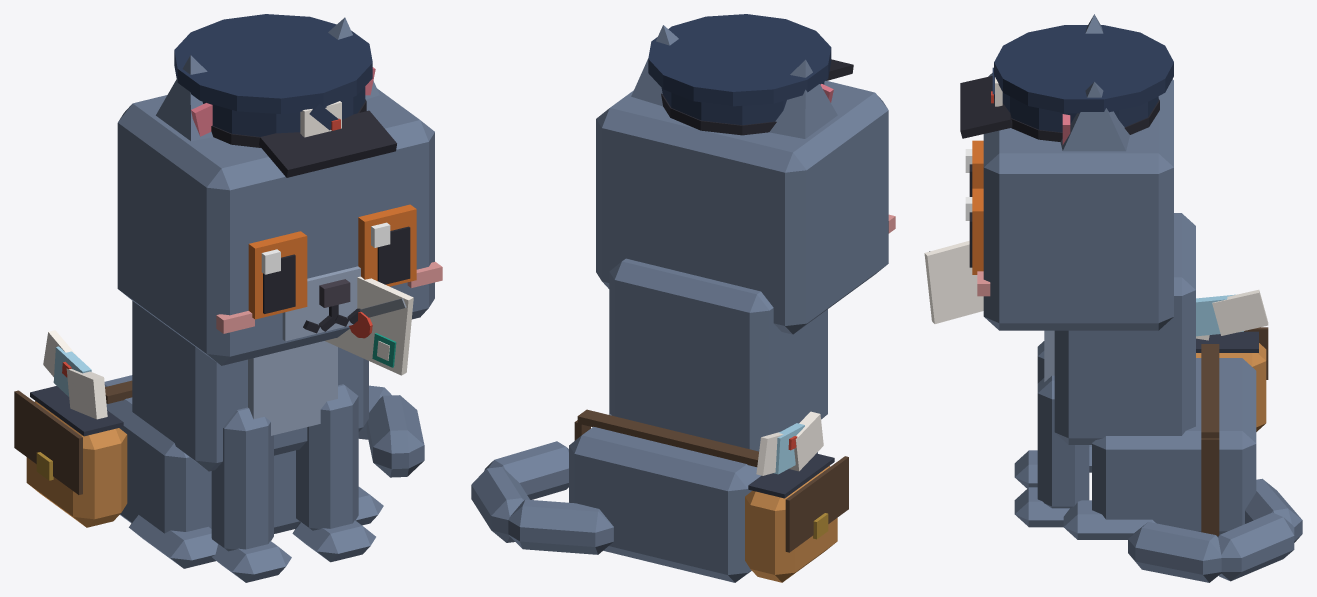
File: CatCafe_Cat_Postie_Sit.fbx
3 views of the same model, side by side, from view 1: azimuth 30°, elevation 25°; view 2: azimuth 150°, elevation 25°; view 3: azimuth 270°, elevation 25° (orthographic). The views are drawn at different scales.
Parts seen in each view (by area): view 1: CatCafe_Cat_Postie_Sit_Head, CatCafe_Cat_Postie_Sit_Body, CatCafe_Cat_Postie_Sit_Prop, CatCafe_Cat_Postie_Sit_LegF2, CatCafe_Cat_Postie_Sit_LegF1, CatCafe_Cat_Postie_Sit_Prop2, CatCafe_Cat_Postie_Sit_Eye2, CatCafe_Cat_Postie_Sit_Eye1, CatCafe_Cat_Postie_Sit_Tail, CatCafe_Cat_Postie_Sit_EarR, CatCafe_Cat_Postie_Sit_EarL; view 2: CatCafe_Cat_Postie_Sit_Body, CatCafe_Cat_Postie_Sit_Head, CatCafe_Cat_Postie_Sit_Prop, CatCafe_Cat_Postie_Sit_Tail, CatCafe_Cat_Postie_Sit_EarR, CatCafe_Cat_Postie_Sit_EarL; view 3: CatCafe_Cat_Postie_Sit_Body, CatCafe_Cat_Postie_Sit_Head, CatCafe_Cat_Postie_Sit_Prop, CatCafe_Cat_Postie_Sit_Tail, CatCafe_Cat_Postie_Sit_LegF1, CatCafe_Cat_Postie_Sit_Prop2, CatCafe_Cat_Postie_Sit_EarL, CatCafe_Cat_Postie_Sit_Eye1, CatCafe_Cat_Postie_Sit_LegF2, CatCafe_Cat_Postie_Sit_Eye2.
Boxes of the visible parts, x1,y1,x2,y2 form: CatCafe_Cat_Postie_Sit_Head: (117,88,442,365); CatCafe_Cat_Postie_Sit_Body: (14,301,383,568); CatCafe_Cat_Postie_Sit_Prop: (174,14,396,177); CatCafe_Cat_Postie_Sit_LegF2: (211,407,291,582); CatCafe_Cat_Postie_Sit_LegF1: (292,384,375,562); CatCafe_Cat_Postie_Sit_Prop2: (325,276,413,375); CatCafe_Cat_Postie_Sit_Eye2: (248,231,307,319); CatCafe_Cat_Postie_Sit_Eye1: (358,204,416,286); CatCafe_Cat_Postie_Sit_Tail: (358,385,424,477); CatCafe_Cat_Postie_Sit_EarR: (156,55,212,141); CatCafe_Cat_Postie_Sit_EarL: (328,17,379,99); CatCafe_Cat_Postie_Sit_Body: (569,258,848,582); CatCafe_Cat_Postie_Sit_Head: (596,80,895,334); CatCafe_Cat_Postie_Sit_Prop: (648,14,853,135); CatCafe_Cat_Postie_Sit_Tail: (471,441,613,554); CatCafe_Cat_Postie_Sit_EarR: (769,59,837,138); CatCafe_Cat_Postie_Sit_EarL: (631,25,678,106); CatCafe_Cat_Postie_Sit_Body: (1044,213,1268,539); CatCafe_Cat_Postie_Sit_Head: (977,73,1173,330); CatCafe_Cat_Postie_Sit_Prop: (960,25,1173,141); CatCafe_Cat_Postie_Sit_Tail: (1128,478,1302,582); CatCafe_Cat_Postie_Sit_LegF1: (1014,375,1089,527); CatCafe_Cat_Postie_Sit_Prop2: (924,240,983,323); CatCafe_Cat_Postie_Sit_EarL: (1060,82,1129,151); CatCafe_Cat_Postie_Sit_Eye1: (965,188,983,274); CatCafe_Cat_Postie_Sit_LegF2: (1014,341,1044,488); CatCafe_Cat_Postie_Sit_Eye2: (965,140,983,196).
Size of the model in its own units: 1.42 by 1.85 by 1.4.
Materials: 1 (1 with a texture image).
